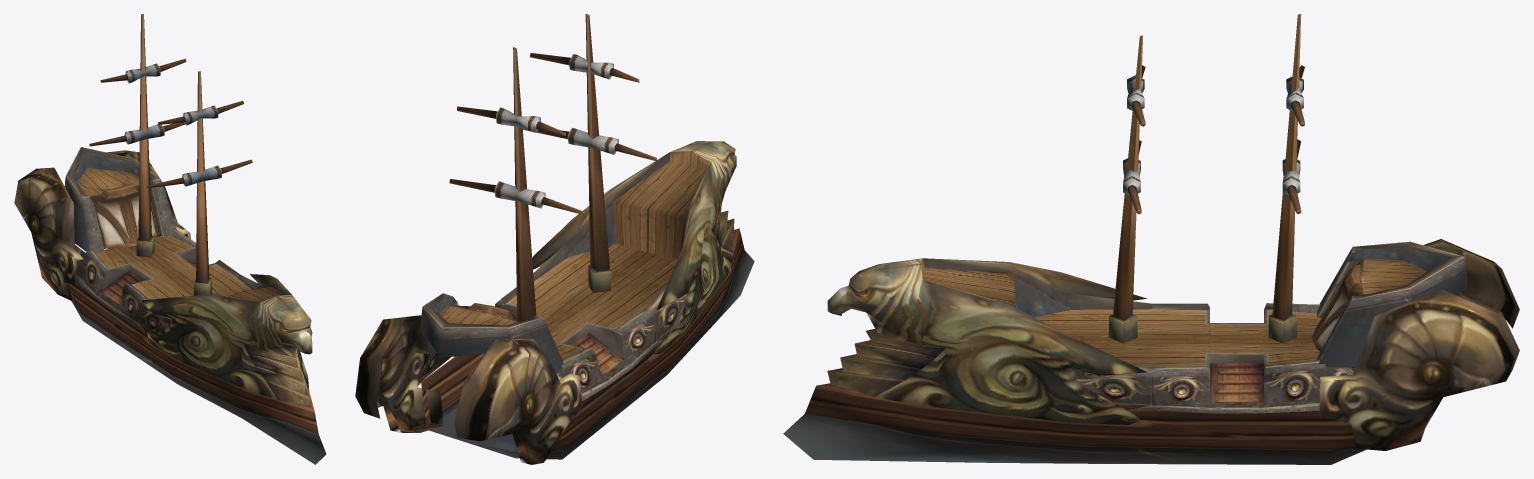
The model's file is ship.FBX.
The picture shows the model from 3 angles, left to right: view 1: azimuth 30°, elevation 25°; view 2: azimuth 150°, elevation 25°; view 3: azimuth 270°, elevation 25°; orthographic projection. The views are drawn at different scales.
Parts seen in each view (by area): view 1: M_a1; view 2: M_a1; view 3: M_a1.
Part boxes in pixels (x1=…): M_a1: x1=14, y1=14, x2=326, y2=464; M_a1: x1=355, y1=14, x2=754, y2=464; M_a1: x1=783, y1=14, x2=1519, y2=464.
Bounding box in the file's own units: 284 × 729 × 1079.
